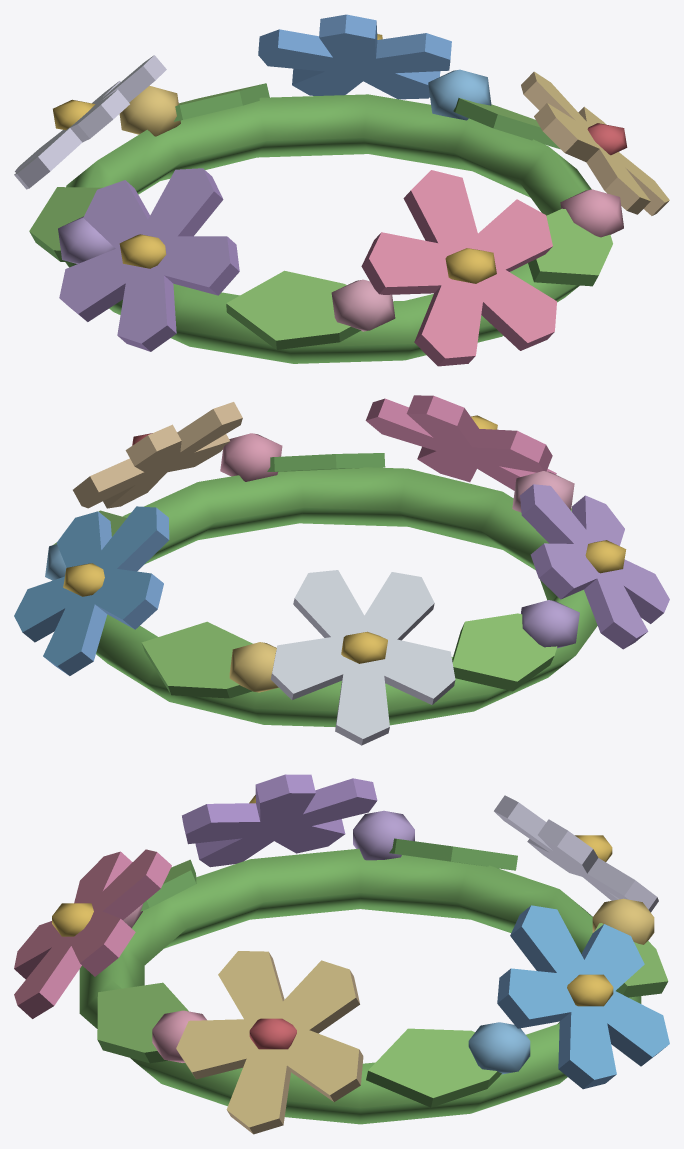
The model's file is slime_hat_flower_crown.fbx.
The picture shows the model from 3 angles, top to bottom: view 1: azimuth 30°, elevation 25°; view 2: azimuth 150°, elevation 25°; view 3: azimuth 270°, elevation 25°; orthographic projection. The views are drawn at different scales.
Parts seen in each view (by area): view 1: slime_hat_flower_crown; view 2: slime_hat_flower_crown; view 3: slime_hat_flower_crown.
Boxes of the visible parts, x1=… form: slime_hat_flower_crown: x1=14, y1=14, x2=669, y2=366; slime_hat_flower_crown: x1=14, y1=395, x2=669, y2=745; slime_hat_flower_crown: x1=14, y1=774, x2=669, y2=1134.
Bounding box in the file's own units: 2.22 × 0.5993 × 2.16.
